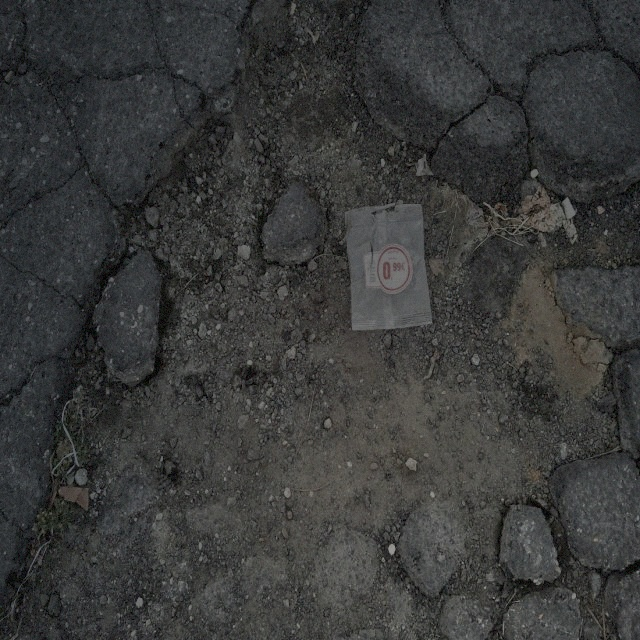pothole: (59, 44, 606, 576)
